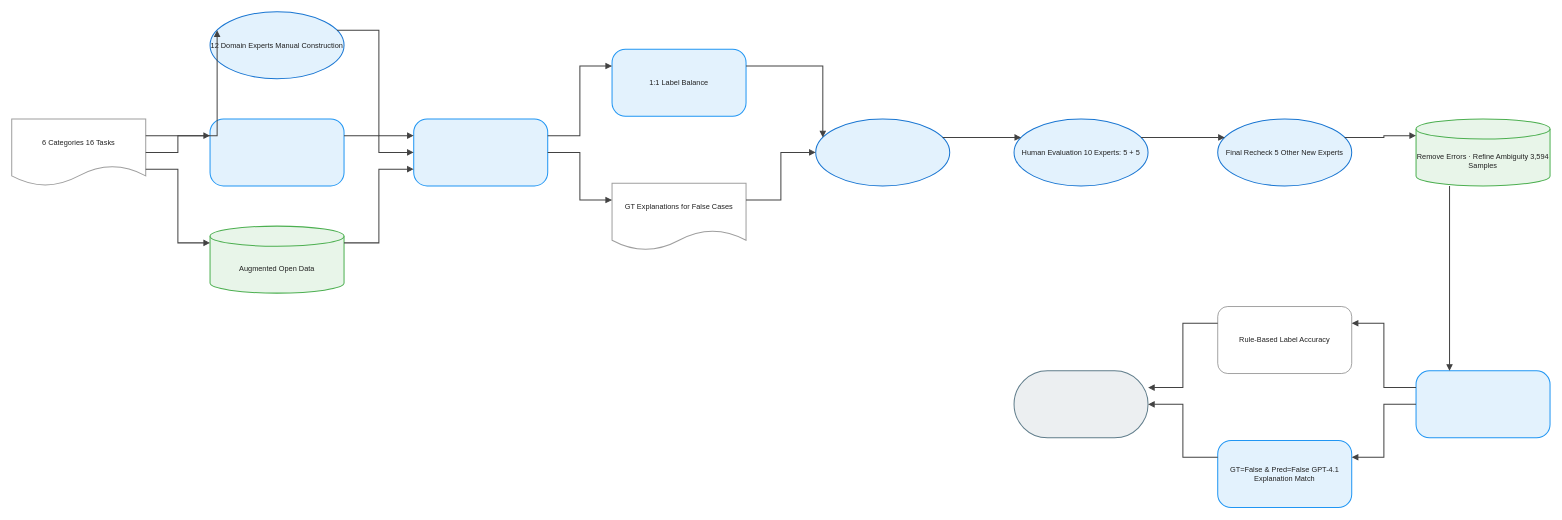
Some shapes in this 1562 by 520 pixel diagram are drawn without their labels. The shapes that lost their labels are listed below. From the top down, each one's centre as x and y in pixels, then its label:
the point at 276,152: Programmatic Generation
the point at 480,152: Initial Dataset Visual True / False Claims
the point at 882,152: 5 New Experts Correctness · Ambiguity · Difficulty
the point at 1080,404: Task · Category · Overall Dual Scores
the point at 1482,404: Predict True / False Explain if False
